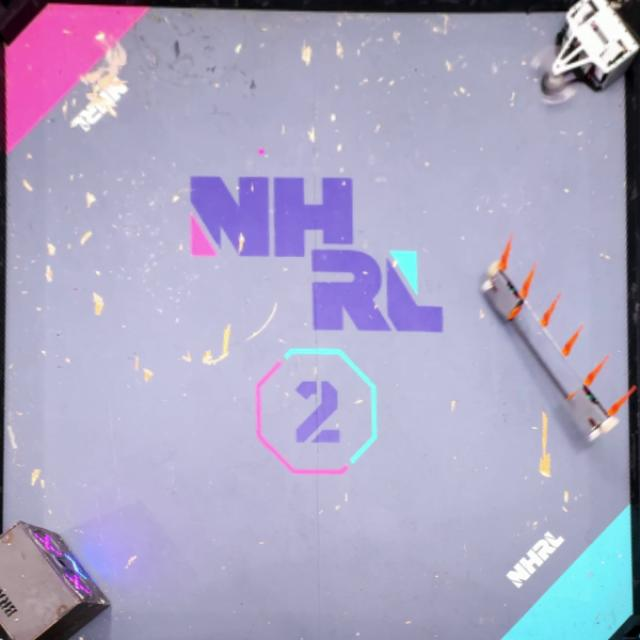housebot: (0, 521, 110, 640)
robot: (483, 234, 637, 447), (532, 0, 640, 106)
